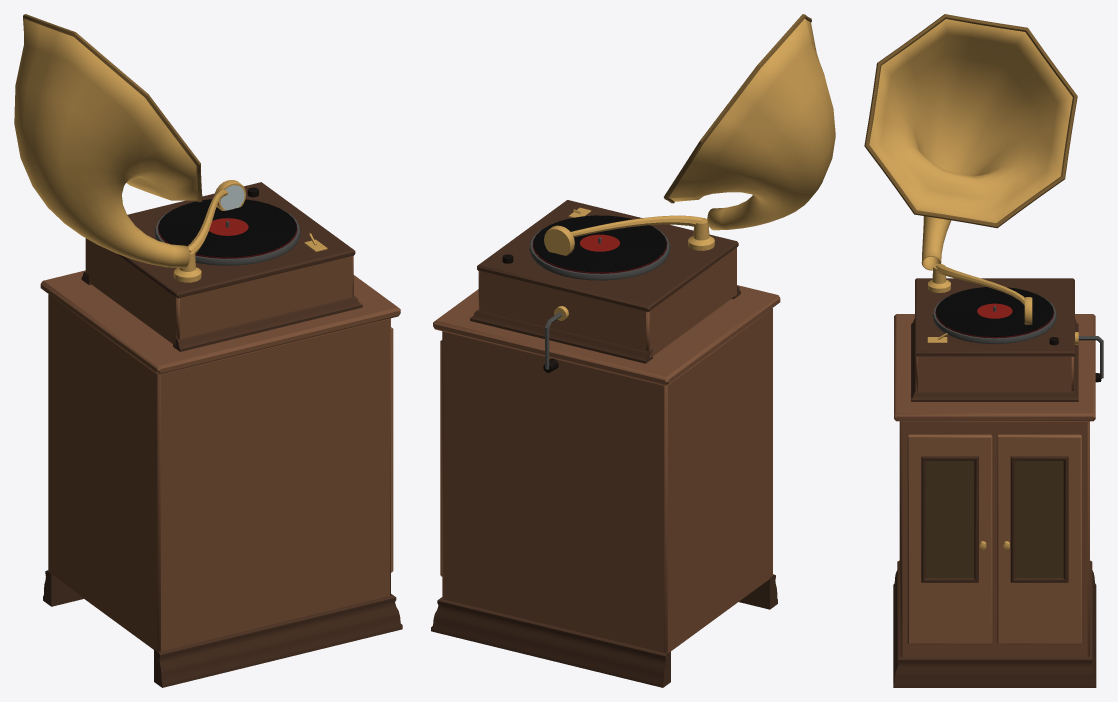
The model's file is gramophone.glb.
The picture shows the model from 3 angles, left to right: view 1: azimuth 30°, elevation 25°; view 2: azimuth 150°, elevation 25°; view 3: azimuth 270°, elevation 25°; orthographic projection. The views are drawn at different scales.
Visible parts, largest first — view 1: walnut, trichter, walnut_d, platte, brass, brass_d, steel, walnut_l; view 2: walnut, walnut_d, trichter, platte, brass, steel, brass_d, walnut_l; view 3: trichter, walnut, walnut_l, walnut_d, grille, platte, brass_d, brass, steel, label.
Boxes of the visible parts, x1,y1,x2,y2 form: walnut: (40, 238, 400, 651); trichter: (14, 19, 197, 268); walnut_d: (43, 182, 402, 687); platte: (158, 199, 296, 257); brass: (173, 180, 327, 282); brass_d: (23, 14, 202, 202); steel: (154, 209, 300, 265); walnut_l: (391, 327, 393, 572); walnut: (433, 247, 780, 652); walnut_d: (431, 200, 777, 687); trichter: (669, 19, 835, 230); platte: (533, 215, 666, 272); brass: (544, 207, 714, 320); steel: (529, 226, 670, 369); brass_d: (664, 14, 811, 203); walnut_l: (440, 340, 442, 576); trichter: (869, 19, 1072, 270); walnut: (894, 314, 1095, 657); walnut_l: (907, 434, 1081, 644); walnut_d: (893, 278, 1096, 687); grille: (926, 460, 1063, 578); platte: (936, 287, 1053, 336); brass_d: (864, 14, 1077, 228); brass: (927, 263, 1078, 549); steel: (932, 296, 1103, 378); label: (977, 303, 1012, 318).
Bounding box in the file's own units: 0.839 × 1.53 × 0.6044.
